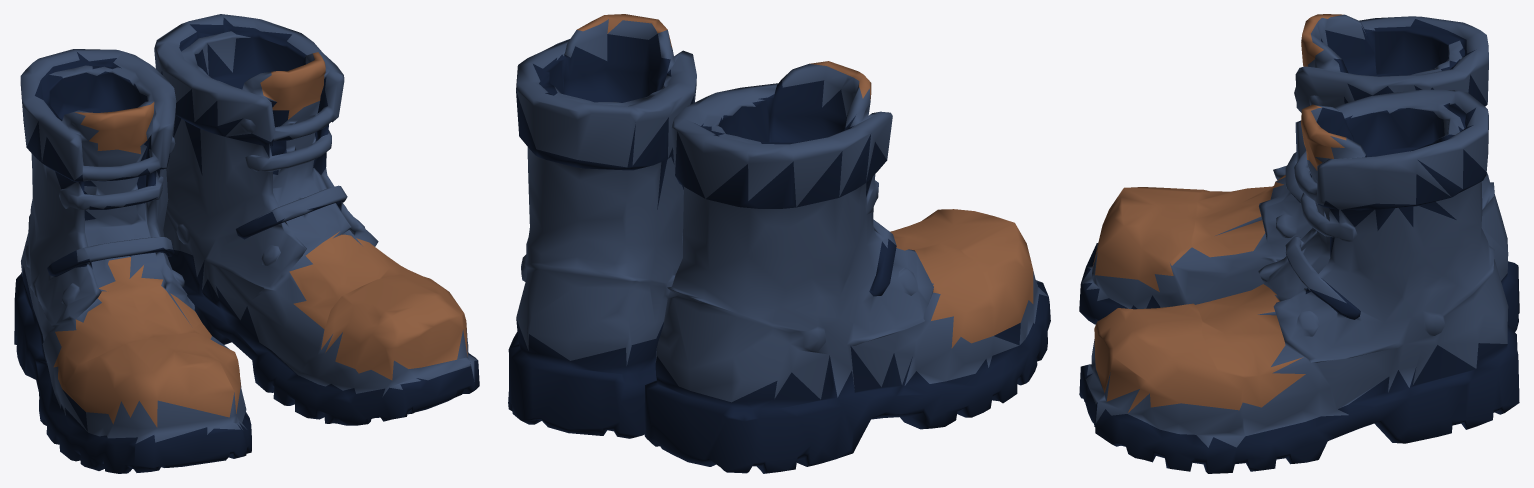
The model's file is safety-boots.glb.
3 views of the same model, side by side, from view 1: azimuth 30°, elevation 25°; view 2: azimuth 150°, elevation 25°; view 3: azimuth 270°, elevation 25° (orthographic). The views are drawn at different scales.
Visible parts, largest first — view 1: safety-boots; view 2: safety-boots; view 3: safety-boots.
Part boxes in pixels (<box>): safety-boots: <box>14,14,479,473</box>; safety-boots: <box>508,14,1050,473</box>; safety-boots: <box>1079,14,1519,473</box>.
Bounding box in the file's own units: 0.4097 × 0.3 × 0.3897.
